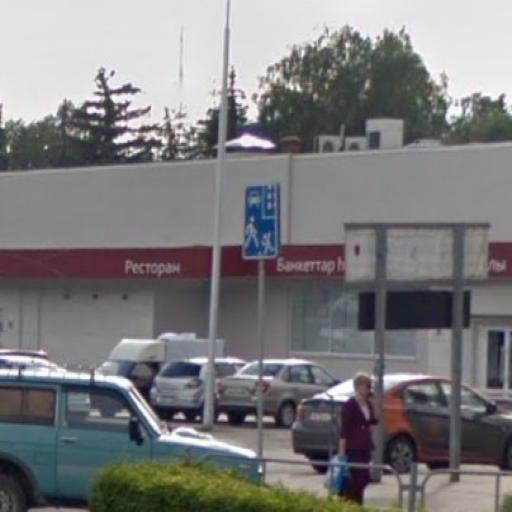traffic_sign: (242, 180, 282, 263)
